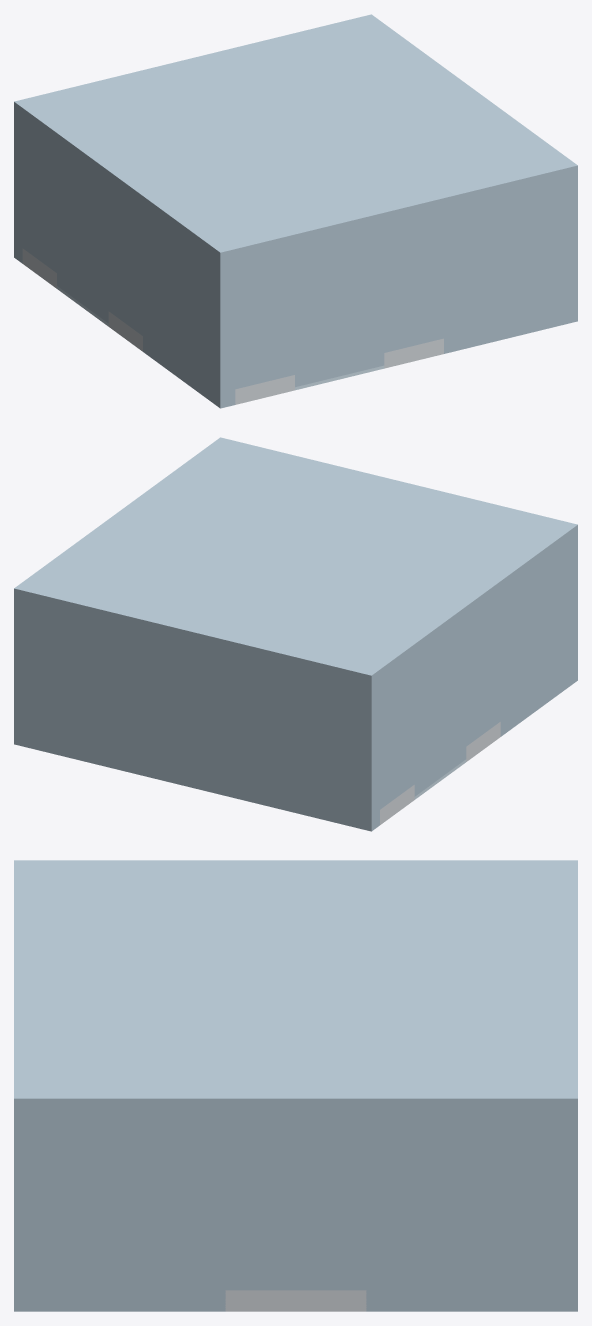
File: frozen-bend-mirror.glb
The picture shows the model from 3 angles, top to bottom: view 1: azimuth 30°, elevation 25°; view 2: azimuth 150°, elevation 25°; view 3: azimuth 270°, elevation 25°; orthographic projection. The views are drawn at different scales.
Parts seen in each view (by area): view 1: ice-rock_11, plug_frozen_south, ice-rock_4, plug_frozen_west, ice-rock_3, ice-rock_6, ice-rock_5, ice-rock_1, plug_frozen_south.001, snow_3, plug_frozen_west.001, snow_1 (+1 smaller); view 2: ice-rock_11, ice-rock_1, plug_frozen_west, ice-rock_3, ice-rock_5, plug_frozen_west.001, snow_1, snow_5; view 3: ice-rock_11, ice-rock_4, ice-rock_2, plug_ice_east, ice-rock_7, ice-rock_1, snow_4.
Part boxes in pixels (bbox=[...]): ice-rock_11: bbox=[14, 14, 577, 268]; plug_frozen_south: bbox=[235, 229, 443, 389]; ice-rock_4: bbox=[444, 181, 577, 353]; plug_frozen_west: bbox=[22, 139, 142, 335]; ice-rock_3: bbox=[143, 212, 235, 408]; ice-rock_6: bbox=[235, 214, 443, 279]; ice-rock_5: bbox=[22, 124, 142, 226]; ice-rock_1: bbox=[14, 117, 22, 263]; plug_frozen_south.001: bbox=[295, 353, 384, 387]; snow_3: bbox=[384, 338, 443, 368]; plug_frozen_west.001: bbox=[57, 273, 108, 323]; snow_1: bbox=[22, 248, 56, 288]; ice-rock_11: bbox=[14, 437, 577, 691]; ice-rock_1: bbox=[14, 604, 379, 831]; plug_frozen_west: bbox=[380, 612, 500, 809]; ice-rock_3: bbox=[500, 540, 577, 736]; ice-rock_5: bbox=[380, 597, 500, 700]; plug_frozen_west.001: bbox=[414, 747, 466, 796]; snow_1: bbox=[380, 785, 414, 824]; snow_5: bbox=[466, 722, 500, 761]; ice-rock_11: bbox=[14, 860, 577, 1119]; ice-rock_4: bbox=[14, 1120, 225, 1311]; ice-rock_2: bbox=[366, 1120, 554, 1311]; plug_ice_east: bbox=[225, 1162, 366, 1290]; ice-rock_7: bbox=[225, 1120, 366, 1162]; ice-rock_1: bbox=[554, 1120, 577, 1311]; snow_4: bbox=[225, 1290, 366, 1311].
Size of the model in its own units: 12 by 5 by 12.
